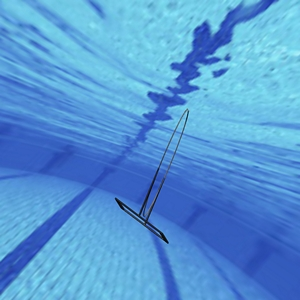circle: (114, 108, 189, 244)
